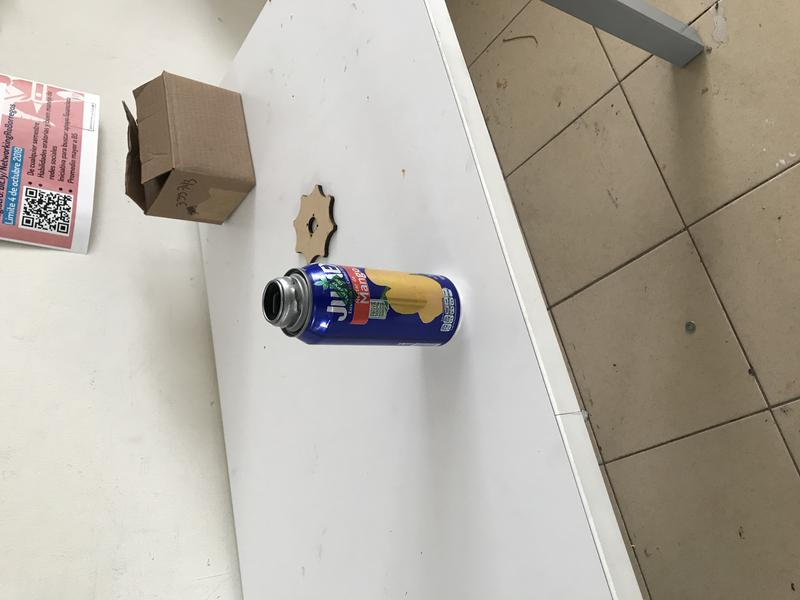jumex_botella: (263, 263, 462, 346)
